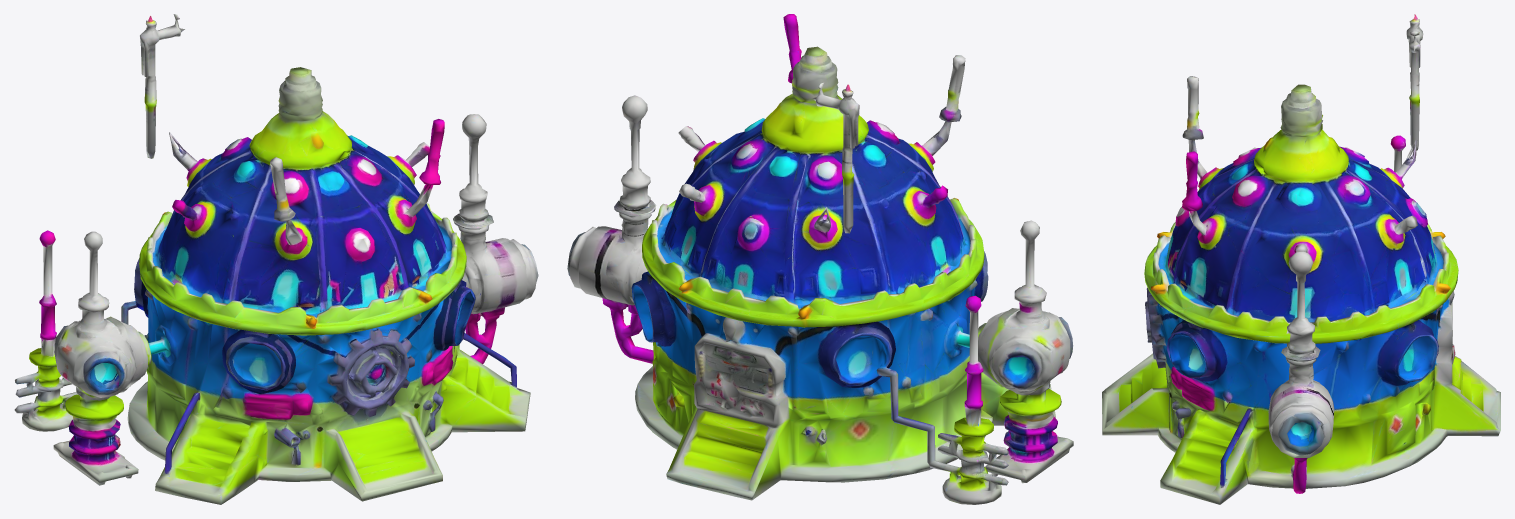
Rendered from fusion-lab.glb.
3 views of the same model, side by side, from view 1: azimuth 30°, elevation 25°; view 2: azimuth 150°, elevation 25°; view 3: azimuth 270°, elevation 25° (orthographic). The views are drawn at different scales.
Bounding box in the file's own units: 1.91 × 1.5 × 1.49.
Materials: 1 (1 with a texture image).
